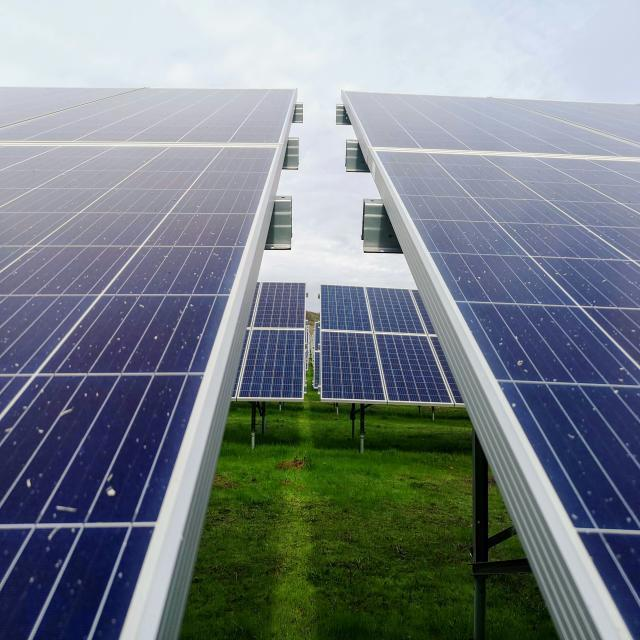Anomaly Solar Panel: (1, 145, 276, 635), (381, 154, 639, 633), (344, 89, 640, 157), (0, 86, 293, 140)
Surface Contaminant: (0, 143, 276, 637), (377, 150, 639, 639), (344, 89, 638, 156), (0, 86, 293, 141)
